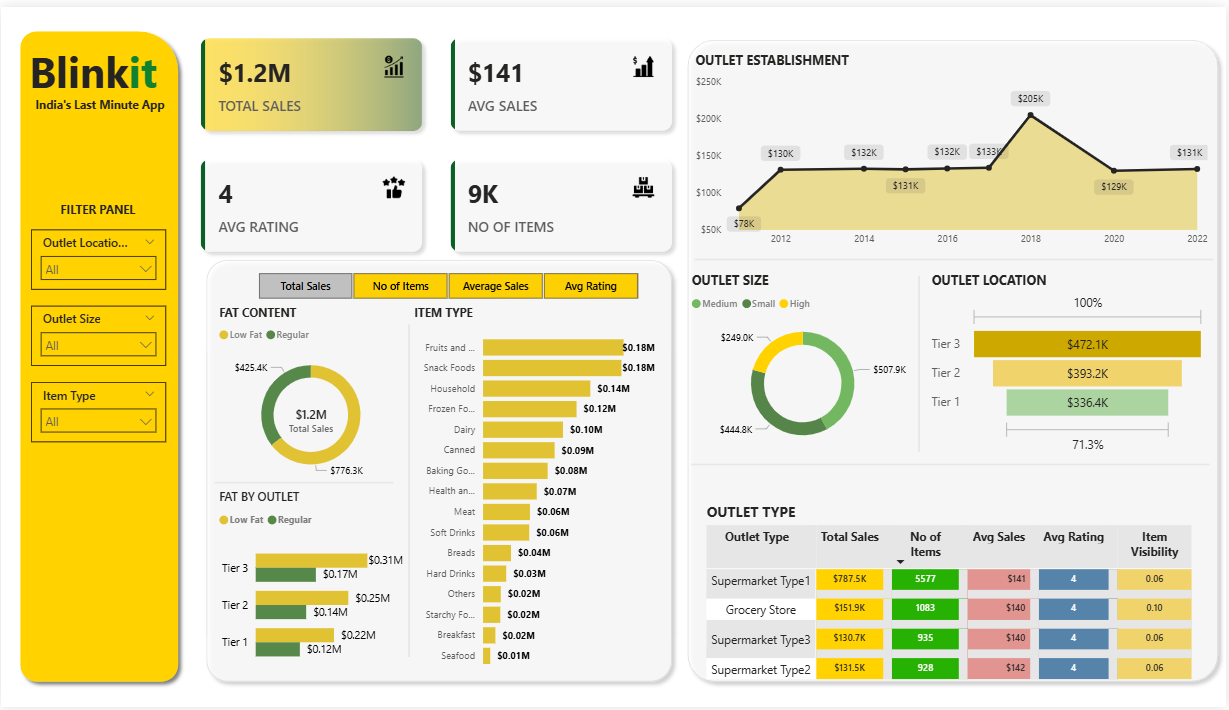

What the dashboard file says about the page in this screenshot:
{"tool":"powerbi","page":{"name":"Page 1","canvas":[1400,800],"ordinal":0},"visuals":[{"type":"shape","box":[12.9,18.6,198.6,761.4],"z":0},{"type":"textbox","box":[27.1,35.7,198.6,101.4],"z":1000},{"type":"textbox","box":[34.3,97.1,184.3,28.6],"z":2000},{"type":"cardVisual","fields":{"Data":["BlinkIT Grocery Data.Total Sales","BlinkIT Grocery Data.Average Sales","BlinkIT Grocery Data.Avg Rating","BlinkIT Grocery Data.No of Items"]},"box":[211.4,18.6,572.9,278.6],"z":3000},{"type":"shape","box":[225.7,280,550,500],"z":4000},{"type":"donutChart","title":"FAT CONTENT","fields":{"Y":["BlinkIT Grocery Data.Total Sales"],"Category":["BlinkIT Grocery Data.Item Fat Content"]},"box":[244.3,340,220,210],"z":5000},{"type":"slicer","fields":{"Values":["Metrics.Metrics"]},"box":[268.6,297.1,482.9,42.9],"z":6000},{"type":"cardVisual","fields":{"Data":["BlinkIT Grocery Data.Total Sales"]},"box":[304.3,438.6,100,68.6],"z":7000},{"type":"clusteredBarChart","title":"FAT BY OUTLET","fields":{"Y":["BlinkIT Grocery Data.Total Sales"],"Category":["BlinkIT Grocery Data.Outlet Location Type"],"Series":["BlinkIT Grocery Data.Item Fat Content"]},"box":[244.3,550,220,215.7],"z":8000},{"type":"shape","box":[244.3,497.1,204.3,92.9],"z":9000},{"type":"shape","box":[374.3,362.9,184.3,380],"z":10000},{"type":"barChart","title":"ITEM TYPE","fields":{"Y":["BlinkIT Grocery Data.Total Sales"],"Category":["BlinkIT Grocery Data.Item Type"]},"box":[467.1,340,285.7,425.7],"z":11000},{"type":"shape","box":[775.7,28.6,624.3,751.4],"z":12000},{"type":"lineChart","title":"OUTLET ESTABLISHMENT","fields":{"Y":["BlinkIT Grocery Data.Total Sales"],"Category":["BlinkIT Grocery Data.Outlet Establishment Year"]},"box":[788.6,45.7,595.7,235.7],"z":13000},{"type":"shape","box":[788.6,488.6,592.9,68.6],"z":14000},{"type":"donutChart","title":"OUTLET SIZE","fields":{"Y":["BlinkIT Grocery Data.Total Sales"],"Category":["BlinkIT Grocery Data.Outlet Size"]},"box":[784.3,297.1,264.3,217.1],"z":15000},{"type":"funnel","title":"OUTLET LOCATION","fields":{"Category":["BlinkIT Grocery Data.Outlet Location Type"],"Y":["BlinkIT Grocery Data.Total Sales"]},"box":[1058.6,297.1,322.9,217.1],"z":16000},{"type":"shape","box":[957.1,307.1,184.3,201.4],"z":17000},{"type":"shape","box":[792.9,267.1,592.9,42.9],"z":18000},{"type":"pivotTable","title":"OUTLET TYPE","fields":{"Rows":["BlinkIT Grocery Data.Outlet Type"],"Values":["BlinkIT Grocery Data.Total Sales","BlinkIT Grocery Data.No of Items","BlinkIT Grocery Data.Avg Sales","BlinkIT Grocery Data.Avg Rating","Avg(BlinkIT Grocery Data.Item Visibility)"]},"box":[801.4,565.7,570,234.3],"z":19000},{"type":"slicer","fields":{"Values":["BlinkIT Grocery Data.Outlet Location Type"]},"box":[34.3,254.3,154.3,68.6],"z":20000},{"type":"slicer","fields":{"Values":["BlinkIT Grocery Data.Outlet Size"]},"box":[34.3,341.4,154.3,68.6],"z":20001},{"type":"slicer","fields":{"Values":["BlinkIT Grocery Data.Item Type"]},"box":[34.3,428.6,154.3,68.6],"z":20002},{"type":"textbox","box":[55.7,217.1,110,37.1],"z":20003}]}

Visuals, with their boxes in screenshot pixels (x1, y1, x2, y2), scaled from the page's 1400x800 canvas onto the 1229x710 screenshot:
shape: locate(11, 17, 186, 692)
textbox: locate(24, 32, 198, 122)
textbox: locate(30, 86, 192, 112)
cardVisual - BlinkIT Grocery Data.Total Sales x BlinkIT Grocery Data.Average Sales: locate(186, 17, 689, 264)
shape: locate(198, 248, 681, 692)
"FAT CONTENT" donutChart: locate(214, 302, 408, 488)
slicer - Metrics.Metrics: locate(236, 264, 660, 302)
cardVisual - BlinkIT Grocery Data.Total Sales: locate(267, 389, 355, 450)
"FAT BY OUTLET" clusteredBarChart: locate(214, 488, 408, 680)
shape: locate(214, 441, 394, 524)
shape: locate(329, 322, 490, 659)
"ITEM TYPE" barChart: locate(410, 302, 661, 680)
shape: locate(681, 25, 1228, 692)
"OUTLET ESTABLISHMENT" lineChart: locate(692, 41, 1215, 250)
shape: locate(692, 434, 1213, 495)
"OUTLET SIZE" donutChart: locate(689, 264, 921, 456)
"OUTLET LOCATION" funnel: locate(929, 264, 1213, 456)
shape: locate(840, 273, 1002, 451)
shape: locate(696, 237, 1217, 275)
"OUTLET TYPE" pivotTable: locate(704, 502, 1204, 709)
slicer - BlinkIT Grocery Data.Outlet Location Type: locate(30, 226, 166, 287)
slicer - BlinkIT Grocery Data.Outlet Size: locate(30, 303, 166, 364)
slicer - BlinkIT Grocery Data.Item Type: locate(30, 380, 166, 441)
textbox: locate(49, 193, 145, 226)
